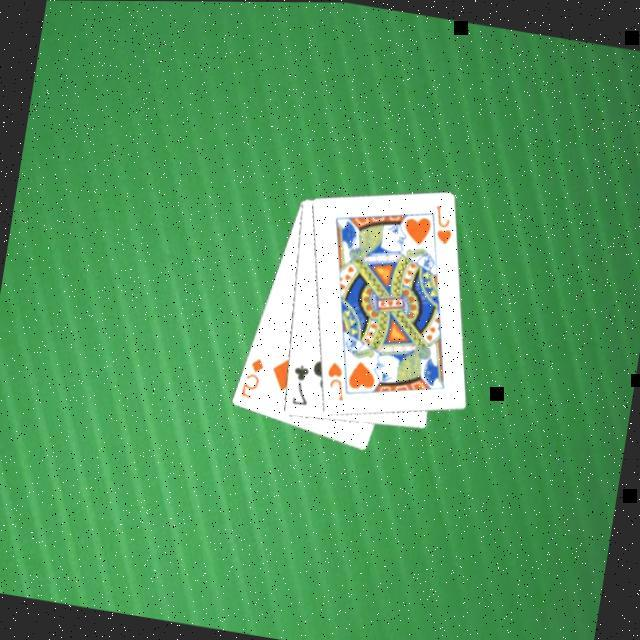5D: (236, 354, 266, 404)
7C: (284, 362, 315, 411)
JH: (318, 358, 350, 406), (426, 203, 456, 250)
